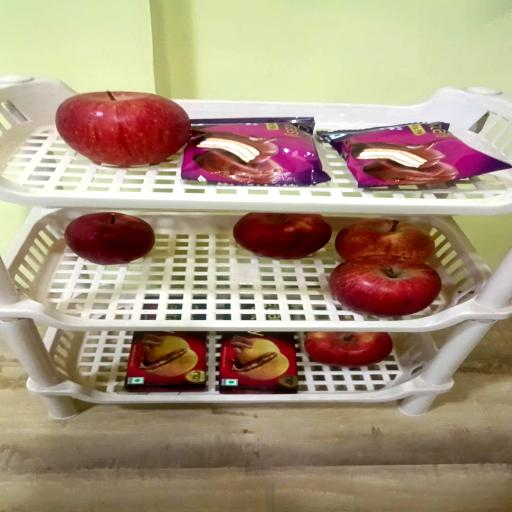Apple: (54, 90, 190, 166), (329, 257, 441, 318), (63, 214, 154, 266), (235, 214, 333, 261), (335, 221, 434, 265), (304, 331, 392, 368)
Choco Fills: (124, 331, 206, 393), (219, 332, 299, 394)
Choco Pie: (320, 121, 510, 187), (182, 116, 330, 185)
